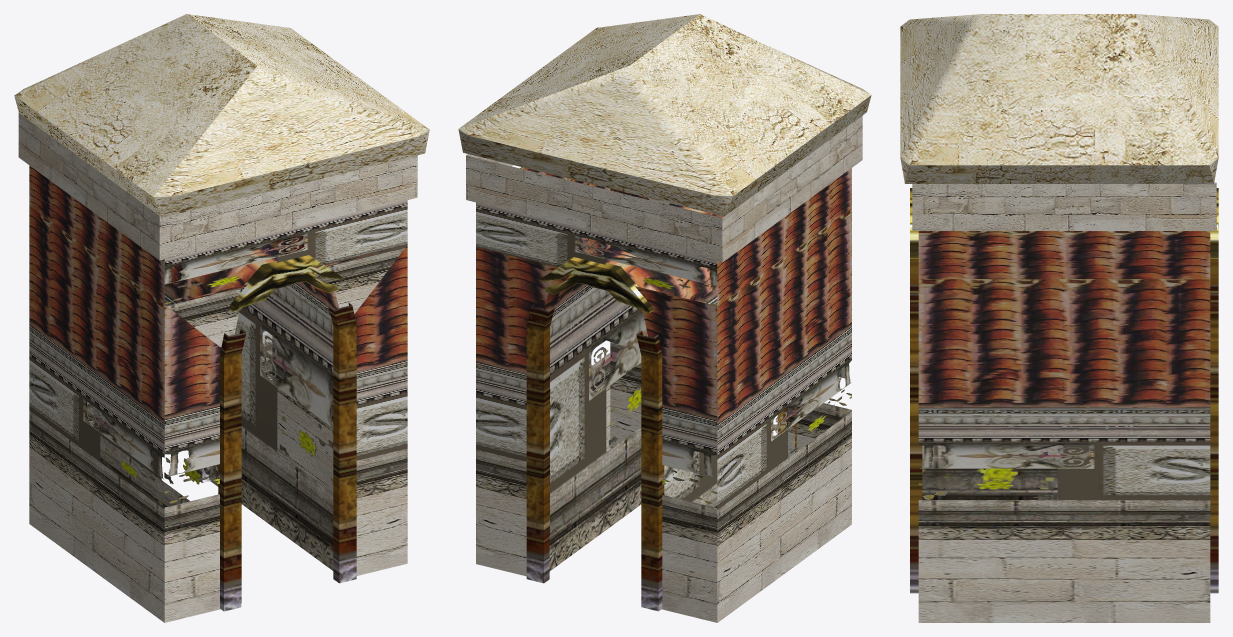
Rendered from rome_alt_arch_lg.dae.
The picture shows the model from 3 angles, left to right: view 1: azimuth 30°, elevation 25°; view 2: azimuth 150°, elevation 25°; view 3: azimuth 270°, elevation 25°; orthographic projection. The views are drawn at different scales.
Visible parts, largest first — view 1: Object02; view 2: Object02; view 3: Object02.
Part boxes in pixels (<box>): Object02: <box>14,14,429,622</box>; Object02: <box>458,14,871,622</box>; Object02: <box>900,14,1218,622</box>.
Size of the model in its own units: 7.73 by 7.13 by 13.49.
